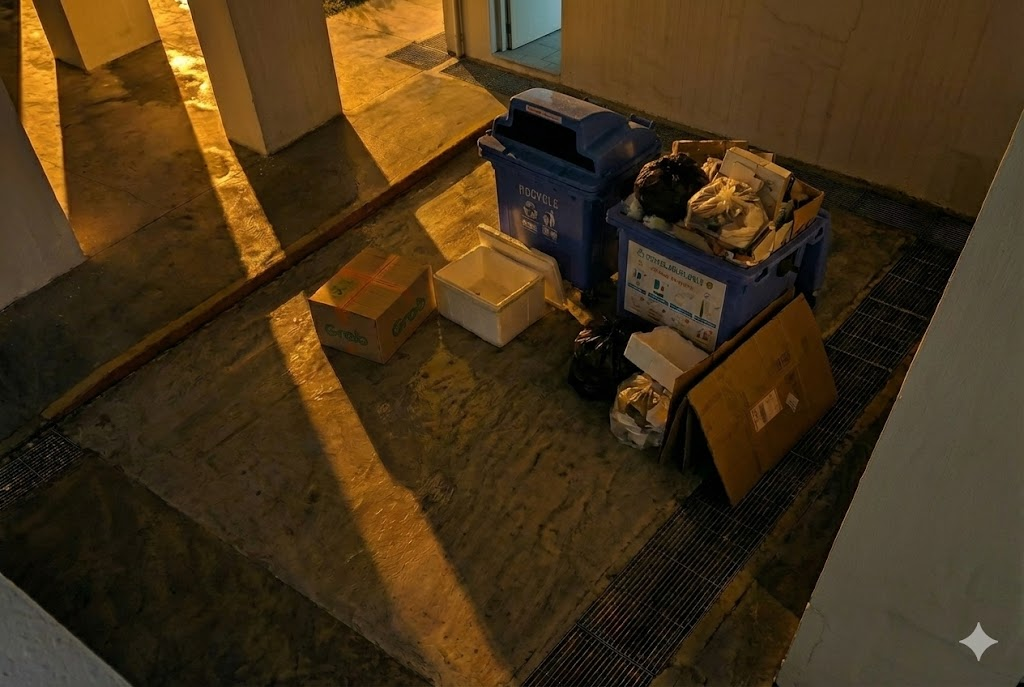bin_empty: (478, 88, 660, 290)
bin_full: (607, 141, 830, 351)
bulk_waste: (690, 296, 836, 505), (435, 224, 565, 347), (309, 246, 436, 362), (626, 326, 706, 392), (610, 374, 669, 448)
normal_waste: (568, 317, 640, 401)
